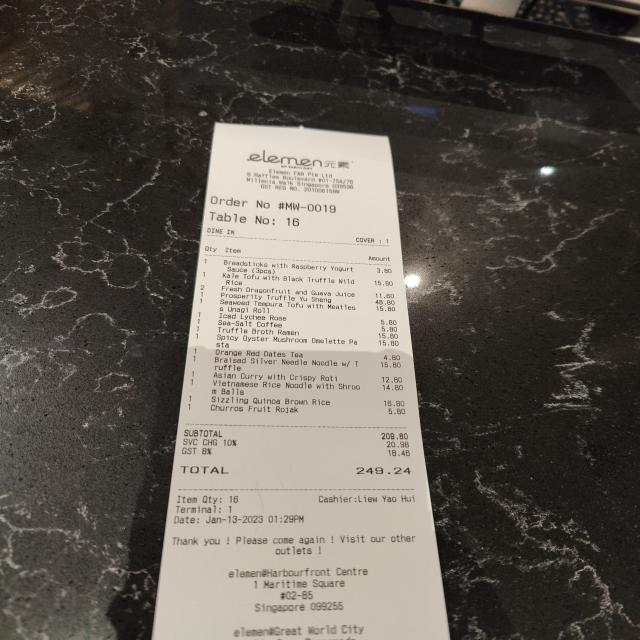bill_region: (176, 258, 419, 486)
